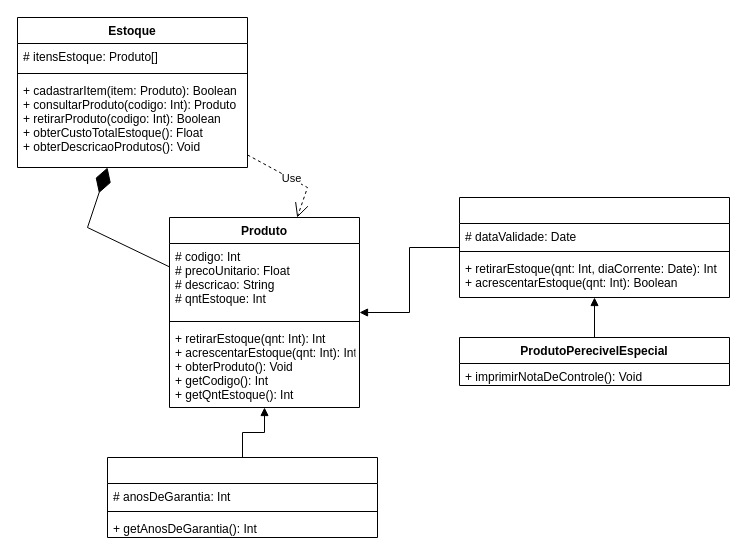
This 747x558 diagram has some shape labels left out. The shapes that lost their labels are listed below. From the top down, each one's box as (x1, y1, x2, y2) in pixels, then its label:
(458, 196, 730, 298): ProdutoPerecivel
(106, 456, 378, 538): ProdutoNaoPerecivel
